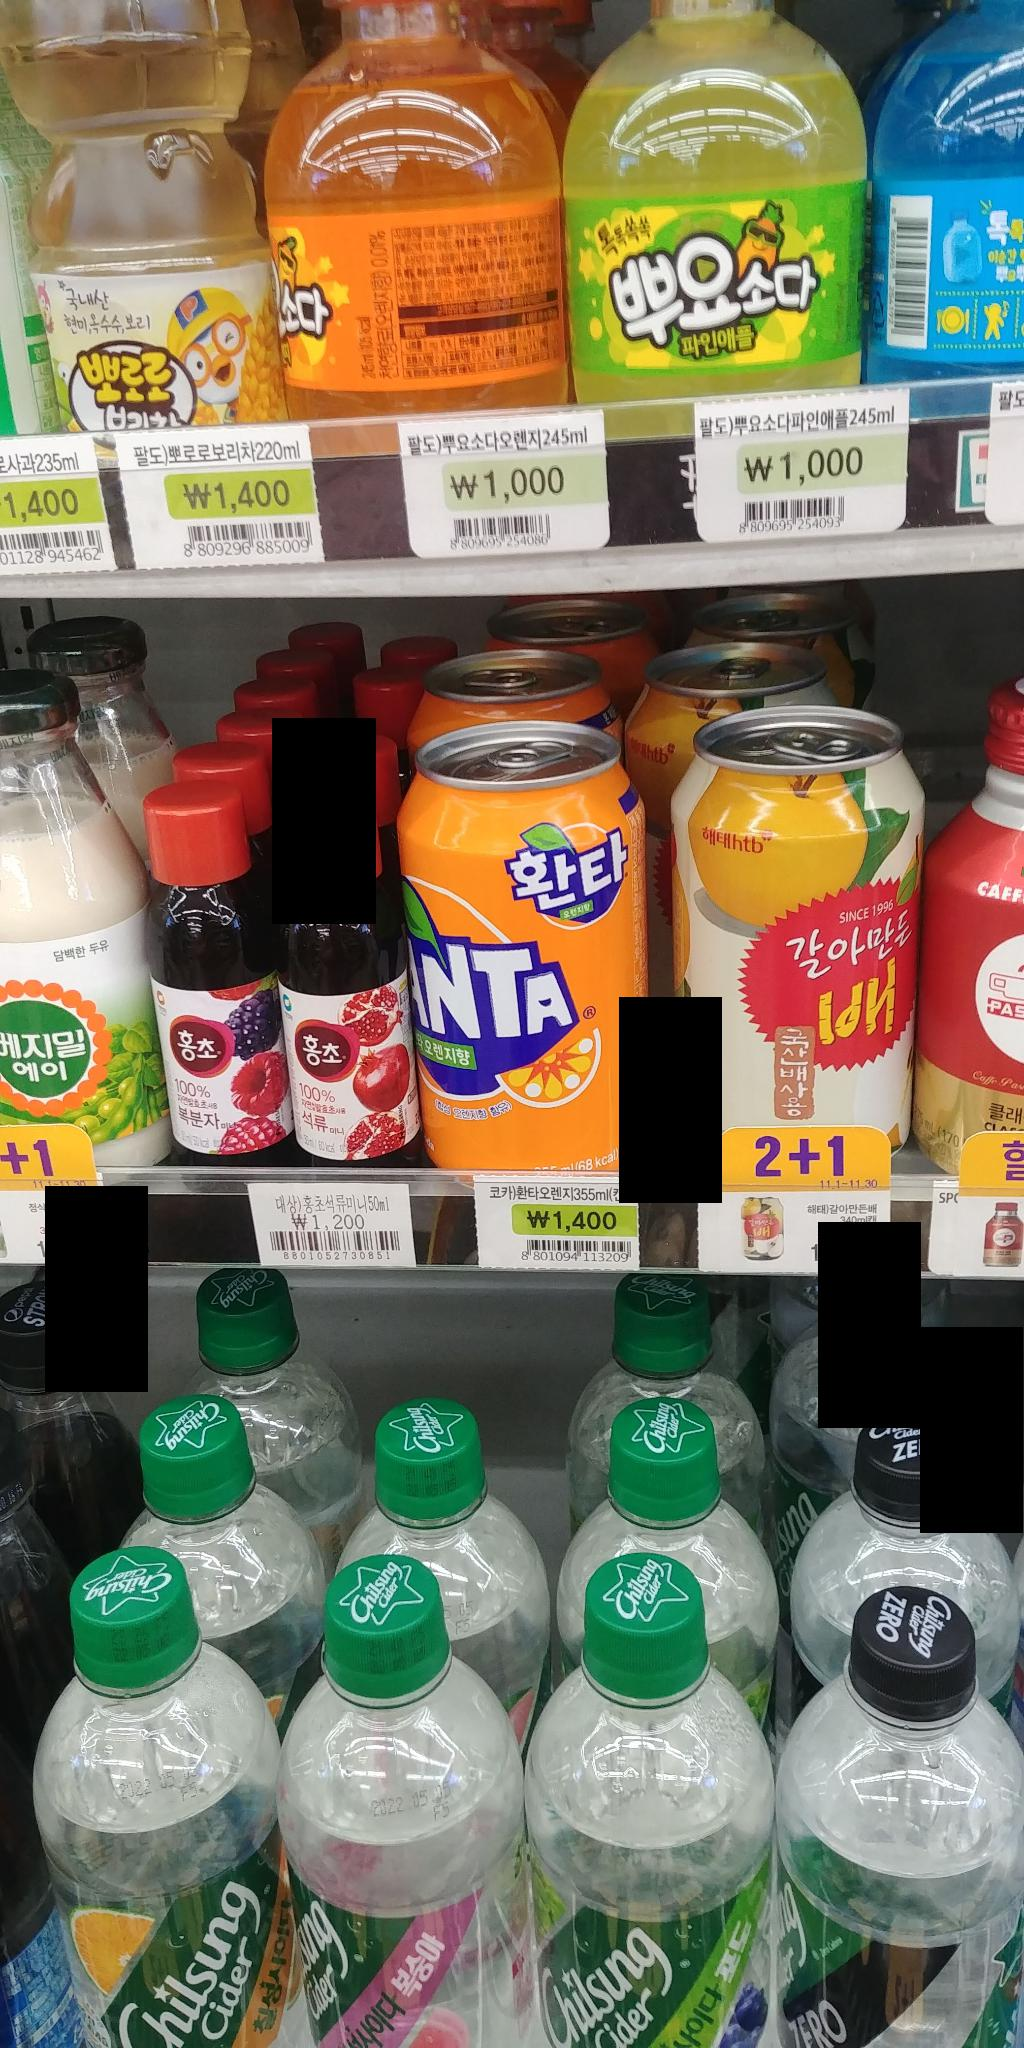fanta_orange: (392, 716, 662, 1190)
